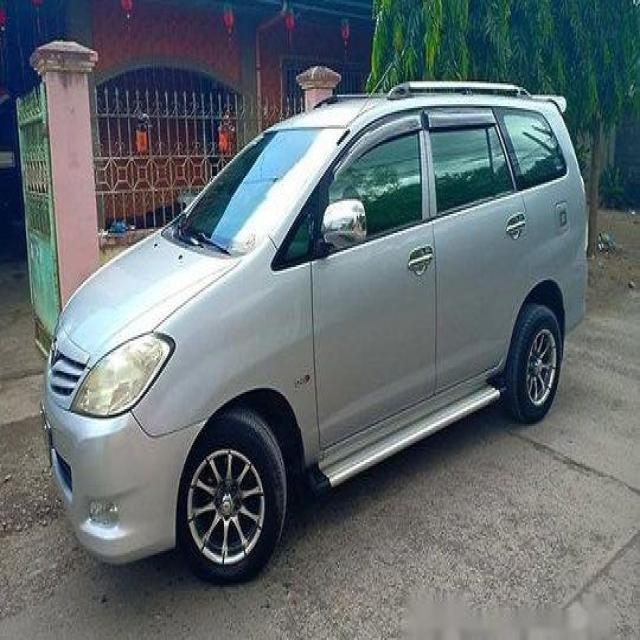light_vehicle: (41, 79, 590, 584)
